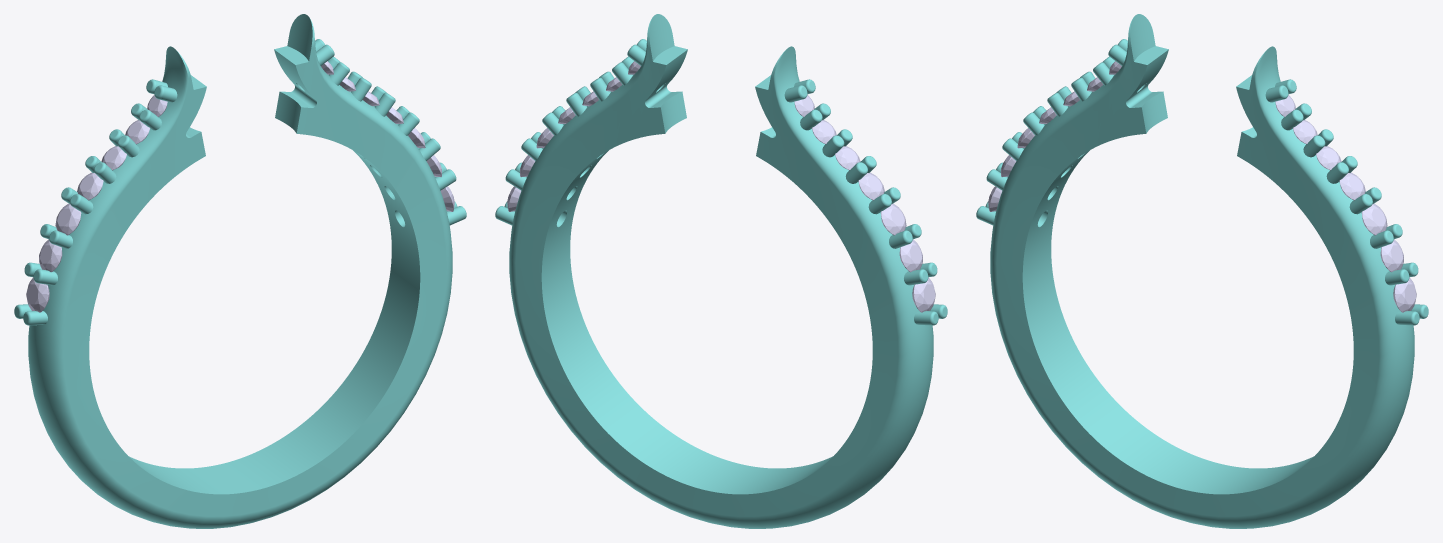
Rendered from shank_diamond.glb.
The picture shows the model from 3 angles, left to right: view 1: azimuth 30°, elevation 25°; view 2: azimuth 150°, elevation 25°; view 3: azimuth 330°, elevation 25°; orthographic projection.
Visible parts, largest first — view 1: METAL_SHANK, STONE_SIDE (×3); view 2: METAL_SHANK, STONE_SIDE (×3); view 3: METAL_SHANK, STONE_SIDE (×3).
Boxes of the visible parts, x1,y1,x2,y2 form: METAL_SHANK: [14, 14, 466, 528]; STONE_SIDE (×3): [26, 203, 81, 312]; METAL_SHANK: [495, 14, 947, 528]; STONE_SIDE (×3): [880, 203, 935, 312]; METAL_SHANK: [976, 14, 1428, 528]; STONE_SIDE (×3): [1361, 203, 1416, 312].
Bounding box in the file's own units: 0.0239 × 0.0254 × 0.00335.
